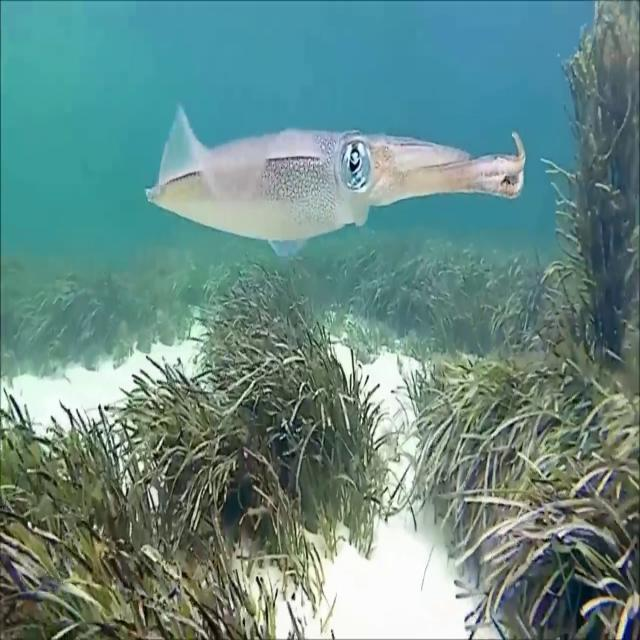squid: (146, 104, 527, 258)
